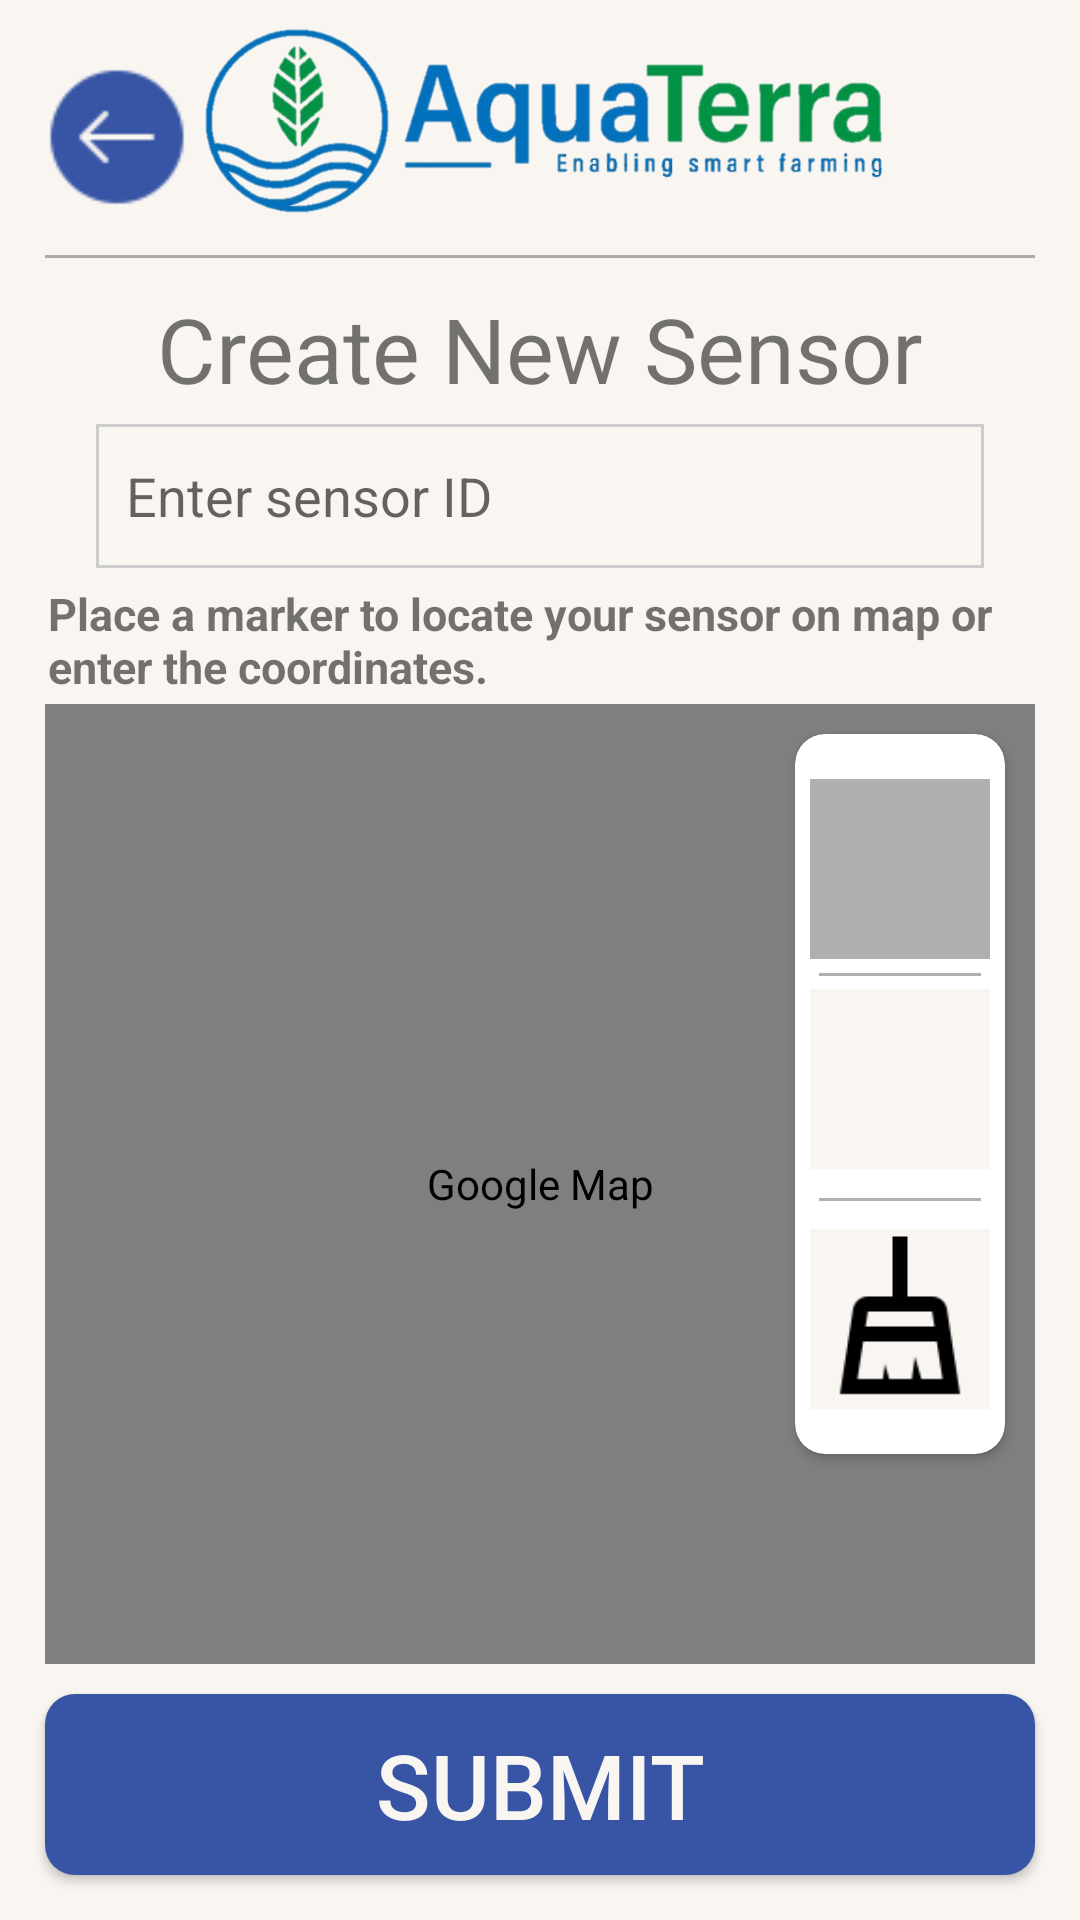

Icon click points for this 1080px x 1920px phone screenshot, format [x,y]:
Back: [117,137]
clear: [900,1319]
